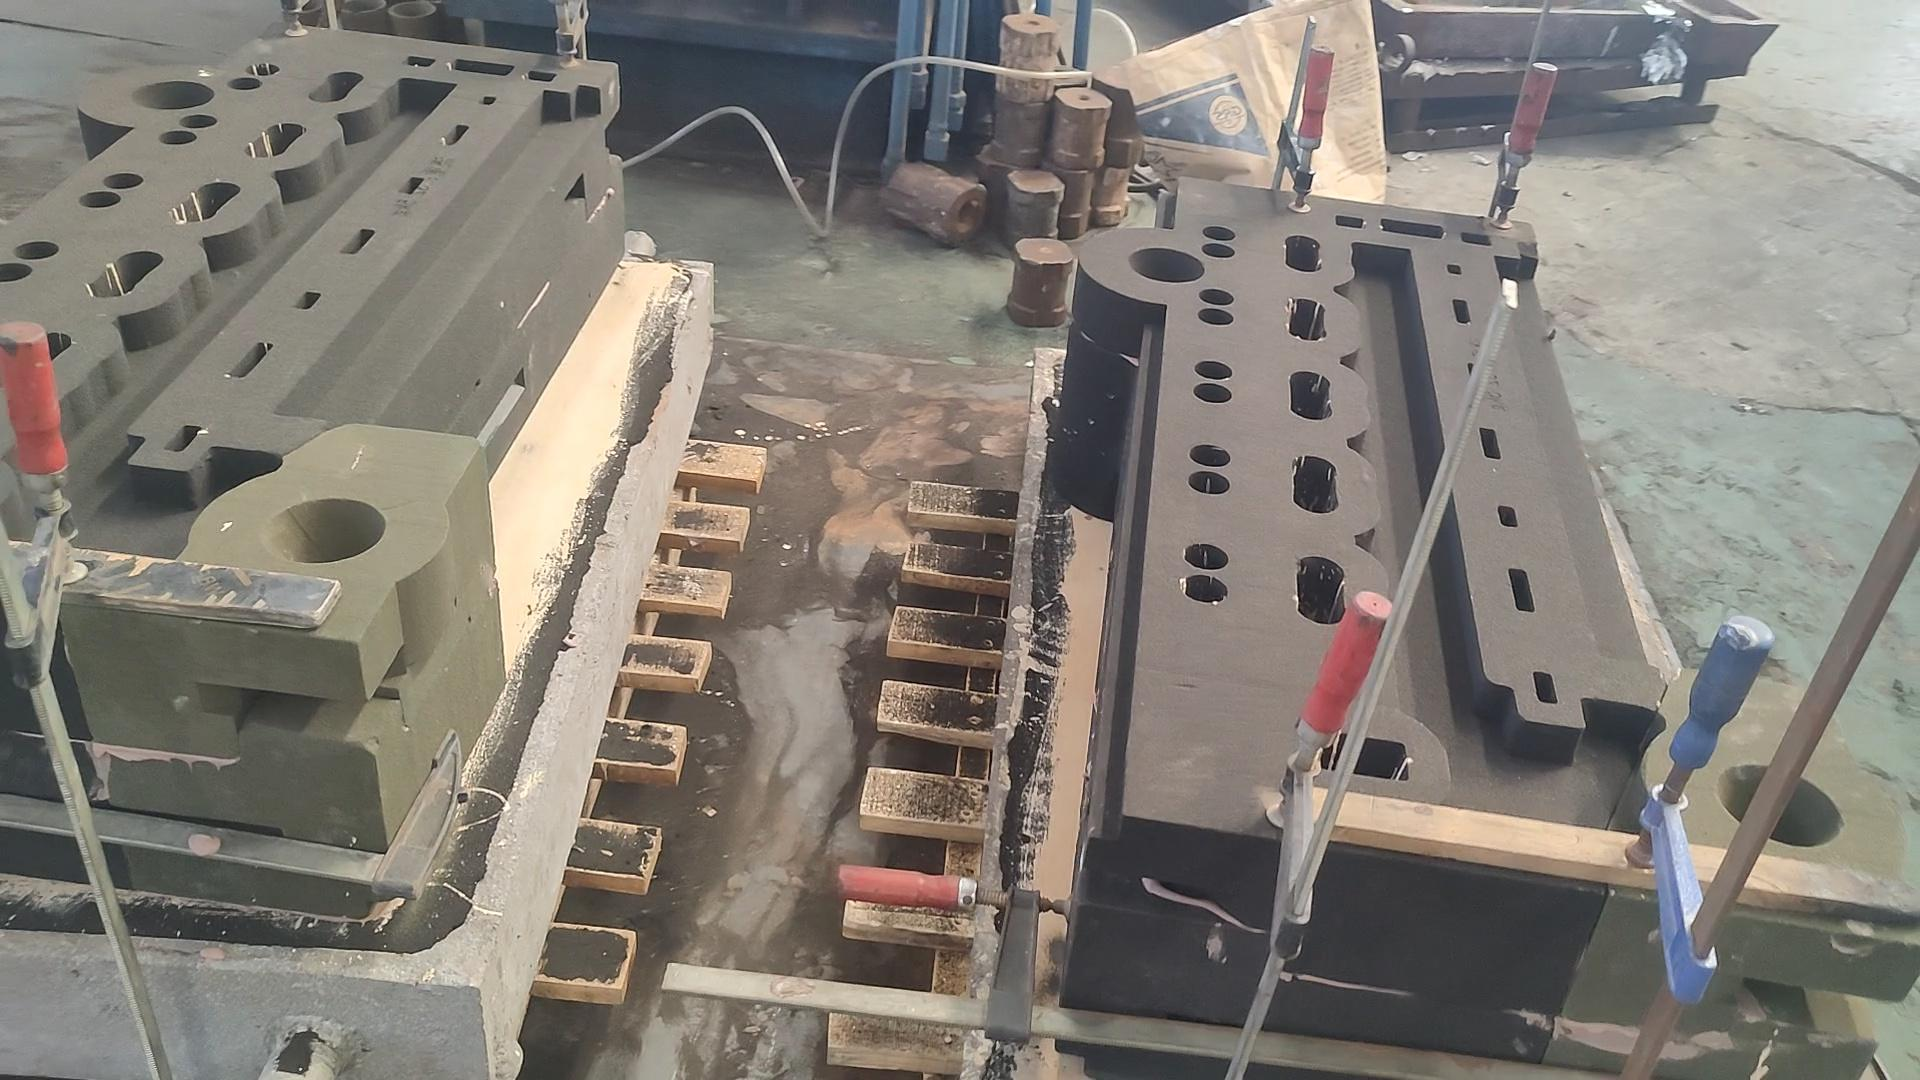pouring hole: (1714, 765, 1844, 848), (258, 497, 385, 563), (1127, 248, 1204, 284), (131, 80, 215, 109), (390, 4, 438, 18), (338, 3, 384, 12), (284, 3, 322, 12)
